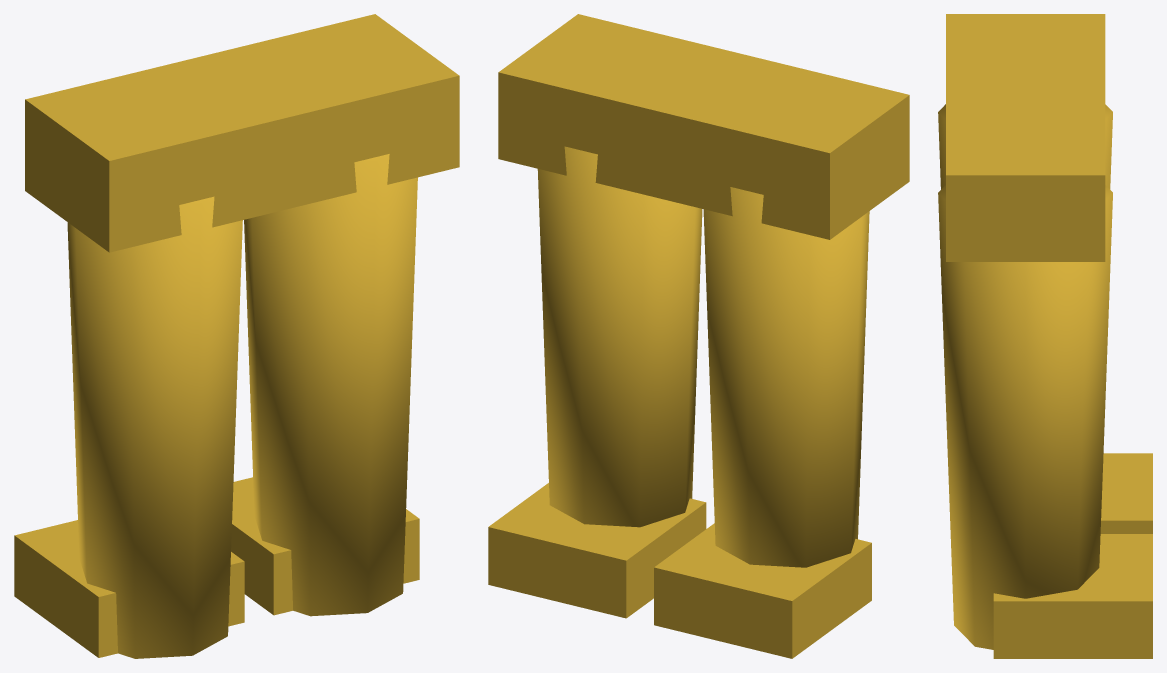
The model's file is gold_greaves.glb.
The picture shows the model from 3 angles, left to right: view 1: azimuth 30°, elevation 25°; view 2: azimuth 150°, elevation 25°; view 3: azimuth 270°, elevation 25°; orthographic projection. The views are drawn at different scales.
Parts seen in each view (by area): view 1: gold_greaves_v0; view 2: gold_greaves_v0; view 3: gold_greaves_v0.
Part boxes in pixels (x1=…): gold_greaves_v0: x1=14, y1=14, x2=459, y2=658; gold_greaves_v0: x1=488, y1=14, x2=909, y2=658; gold_greaves_v0: x1=938, y1=14, x2=1152, y2=658.
Bounding box in the file's own units: 0.24 × 0.34 × 0.135.
